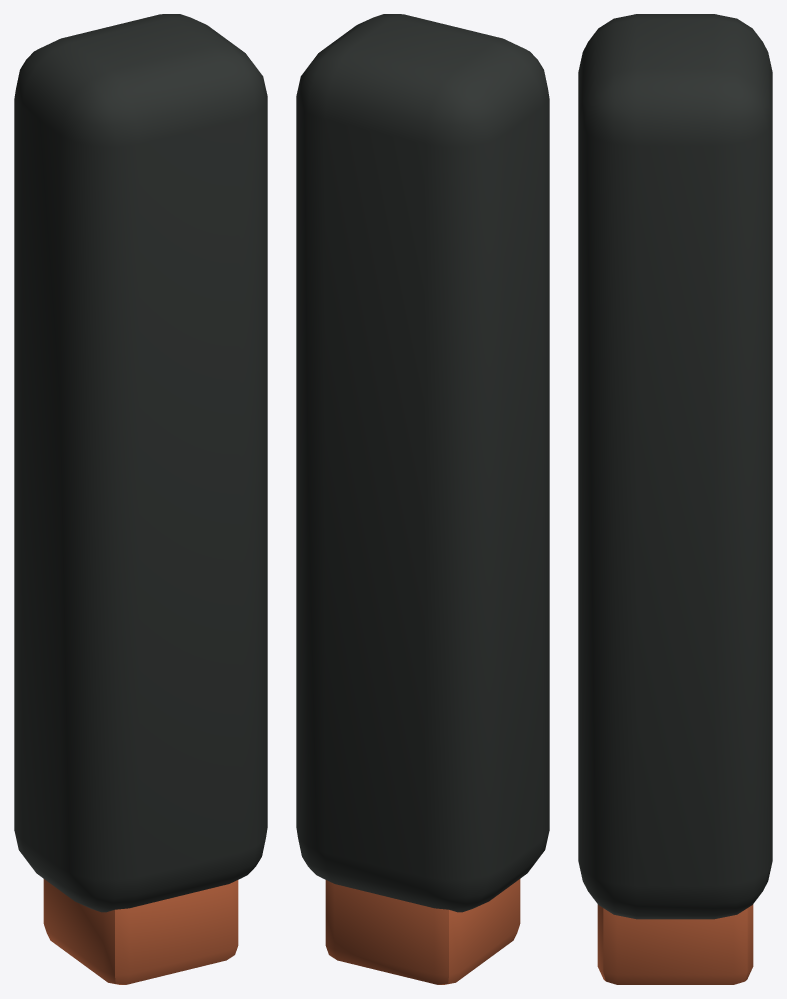
Rendered from drywall_screwdriver_direction_switch.glb.
3 views of the same model, side by side, from view 1: azimuth 30°, elevation 25°; view 2: azimuth 150°, elevation 25°; view 3: azimuth 270°, elevation 25° (orthographic).
Parts seen in each view (by area): view 1: drywall_screwdriver_direction_switch; view 2: drywall_screwdriver_direction_switch; view 3: drywall_screwdriver_direction_switch.
Boxes of the visible parts, box(x1,y1,x2,y2) form: drywall_screwdriver_direction_switch: box(14, 14, 267, 984); drywall_screwdriver_direction_switch: box(296, 14, 549, 984); drywall_screwdriver_direction_switch: box(578, 14, 772, 984).
Bounding box in the file's own units: 0.012 × 0.052 × 0.01.
